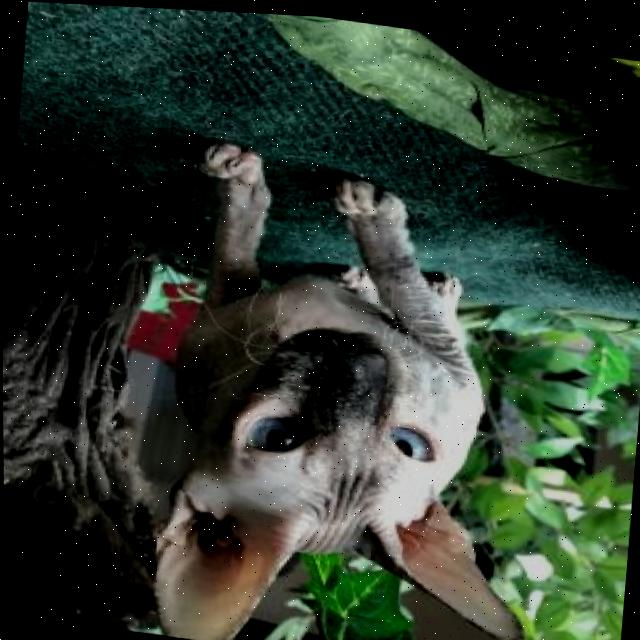Sphynx: (132, 125, 566, 640)
